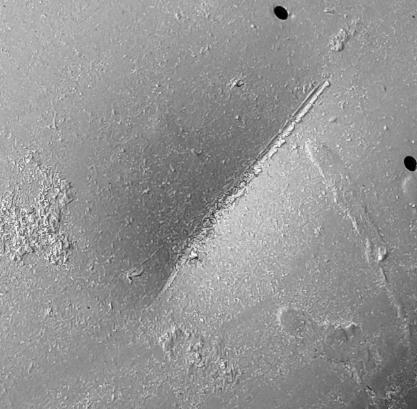dent: (1, 0, 417, 409)
